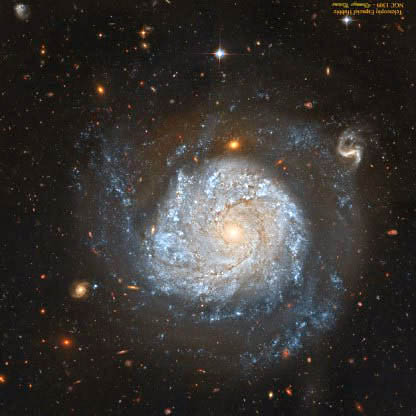NGC 1309: (65, 54, 371, 373)
